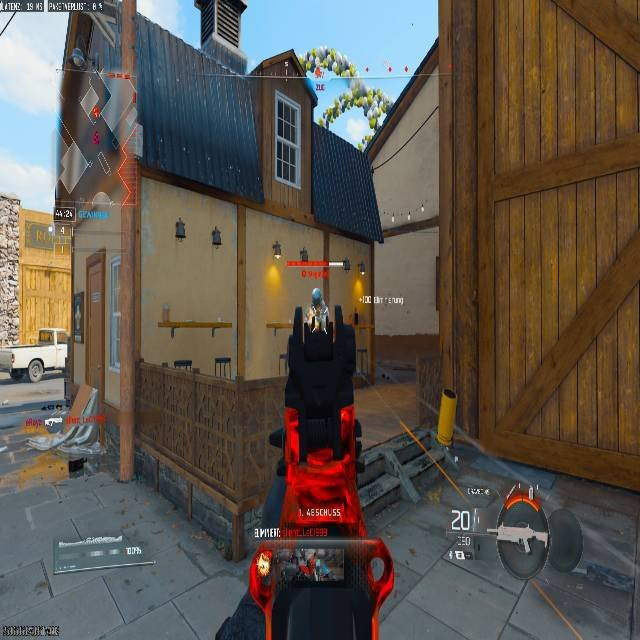head: (311, 288, 322, 303)
player: (281, 296, 358, 460), (308, 287, 329, 334)
